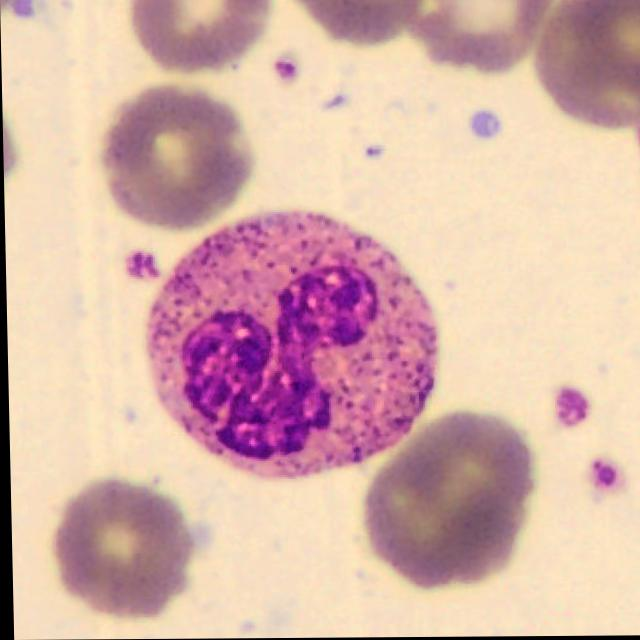Neutrofilo segmentado: (144, 212, 437, 481)
